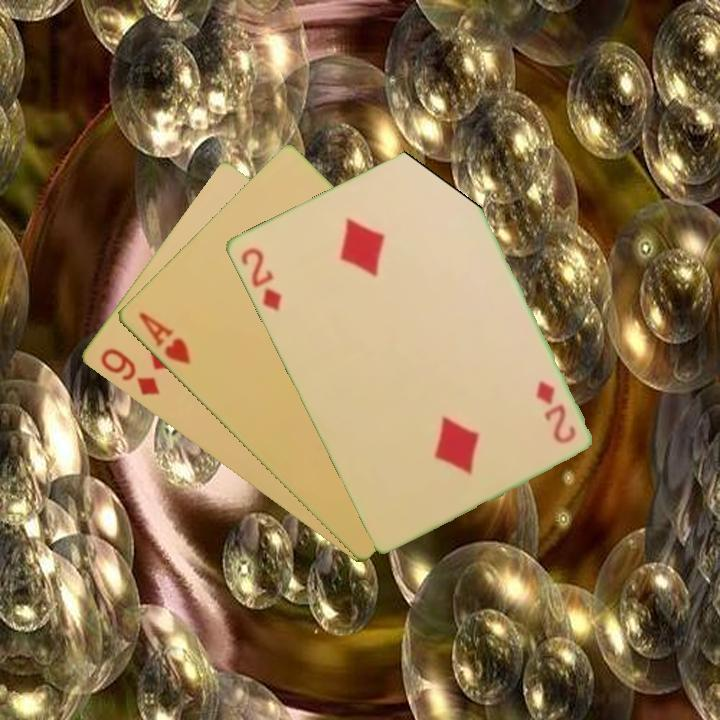2d: (236, 243, 284, 314), (531, 377, 578, 447)
9d: (96, 344, 163, 399)
Ah: (134, 308, 193, 368)
